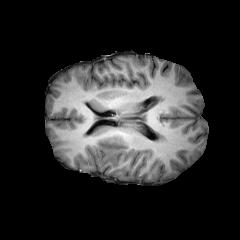glioma: (83, 133, 129, 168)
